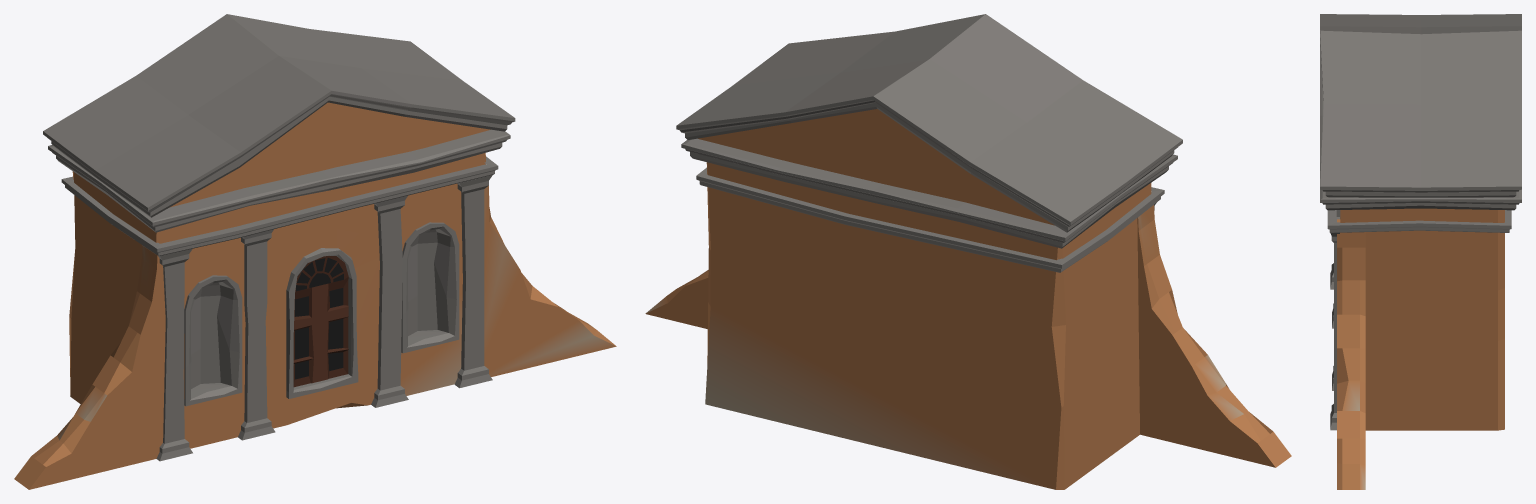
The model's file is SM_Bld_Cuba_Hall_Front_01.glb.
The picture shows the model from 3 angles, left to right: view 1: azimuth 30°, elevation 25°; view 2: azimuth 150°, elevation 25°; view 3: azimuth 270°, elevation 25°; orthographic projection. The views are drawn at different scales.
Visible parts, largest first — view 1: SM_Bld_Cuba_Hall_Front_01; view 2: SM_Bld_Cuba_Hall_Front_01; view 3: SM_Bld_Cuba_Hall_Front_01.
Part boxes in pixels (x1,y1,x2,y2): SM_Bld_Cuba_Hall_Front_01: [14, 14, 616, 489]; SM_Bld_Cuba_Hall_Front_01: [645, 14, 1291, 489]; SM_Bld_Cuba_Hall_Front_01: [1320, 14, 1521, 489].
Bounding box in the file's own units: 0.1088 × 0.059 × 0.0336.
